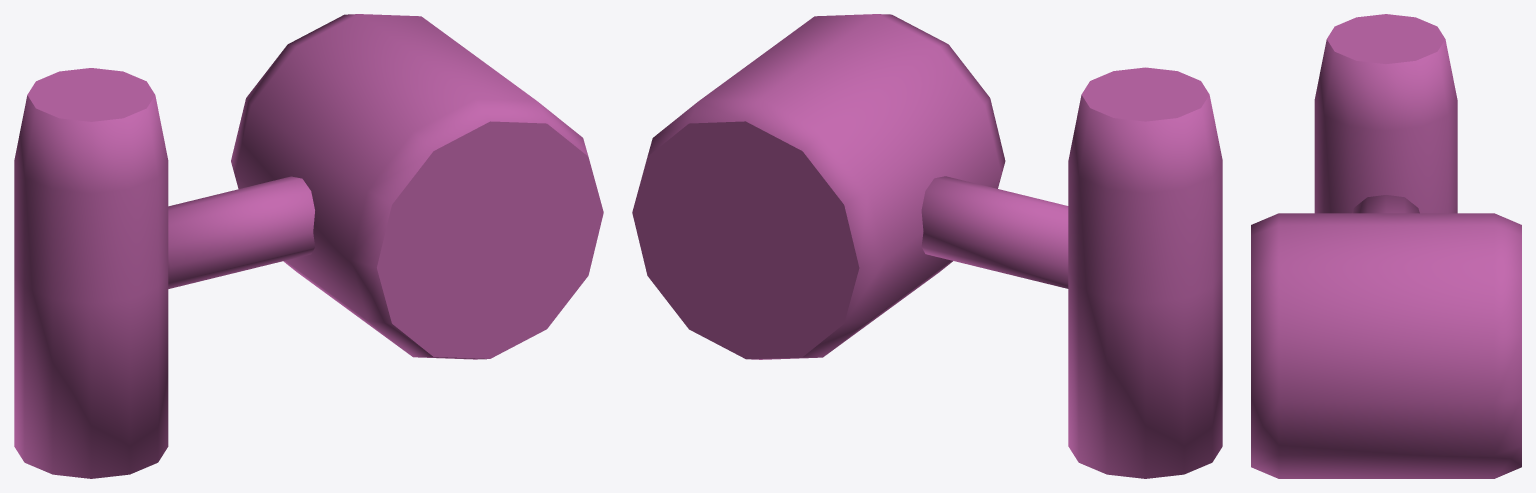
Rendered from hammer.fbx.
3 views of the same model, side by side, from view 1: azimuth 30°, elevation 25°; view 2: azimuth 150°, elevation 25°; view 3: azimuth 270°, elevation 25° (orthographic). The views are drawn at different scales.
Parts seen in each view (by area): view 1: Cylinder.001, Cylinder; view 2: Cylinder.001, Cylinder; view 3: Cylinder.001, Cylinder.
Part boxes in pixels (x1,y1,x2,y2): Cylinder.001: (168,14,603,359); Cylinder: (14,68,168,478); Cylinder.001: (632,14,1068,359); Cylinder: (1068,67,1222,478); Cylinder.001: (1251,195,1521,478); Cylinder: (1314,14,1457,213).
Bounding box in the file's own units: 336 × 218 × 164.
